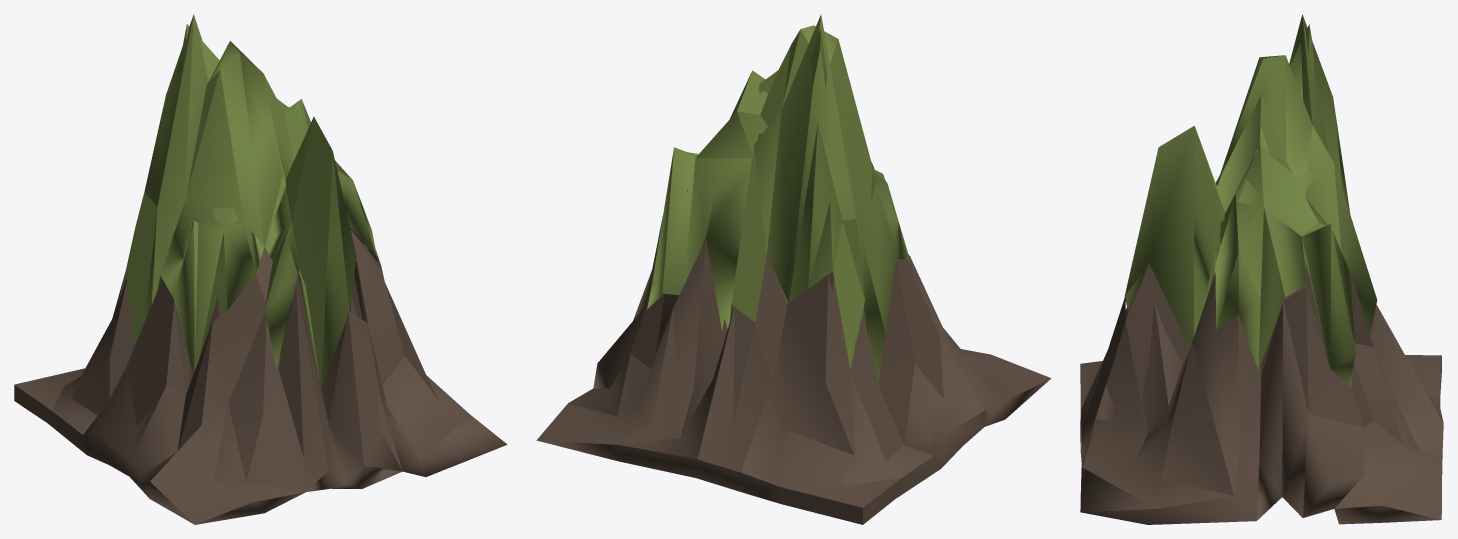
The model's file is very_low_poly_mountain.fbx.
The picture shows the model from 3 angles, left to right: view 1: azimuth 30°, elevation 25°; view 2: azimuth 150°, elevation 25°; view 3: azimuth 270°, elevation 25°; orthographic projection. The views are drawn at different scales.
Parts seen in each view (by area): view 1: Box002; view 2: Box002; view 3: Box002.
Boxes of the visible parts, left/top/right/bottom form: Box002: left=14, top=14, right=507, bottom=524; Box002: left=536, top=14, right=1051, bottom=524; Box002: left=1080, top=14, right=1443, bottom=524.
Bounding box in the file's own units: 204 × 256 × 204.
